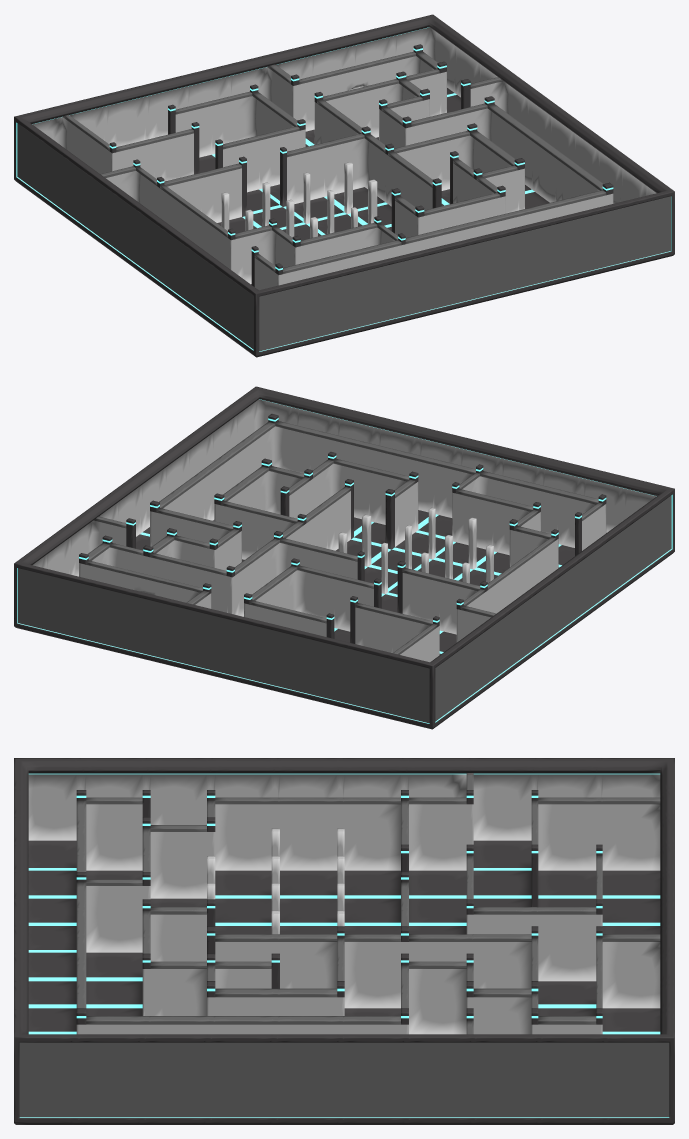
Rendered from LevelOneMaze.fbx.
The picture shows the model from 3 angles, top to bottom: view 1: azimuth 30°, elevation 25°; view 2: azimuth 150°, elevation 25°; view 3: azimuth 270°, elevation 25°; orthographic projection. The views are drawn at different scales.
Visible parts, largest first — view 1: Plane; view 2: Plane; view 3: Plane.
Part boxes in pixels (x1,y1,x2,y2): Plane: [14, 14, 674, 357]; Plane: [14, 386, 674, 729]; Plane: [14, 758, 674, 1124].
Bounding box in the file's own units: 25.3 × 4.22 × 25.3.
